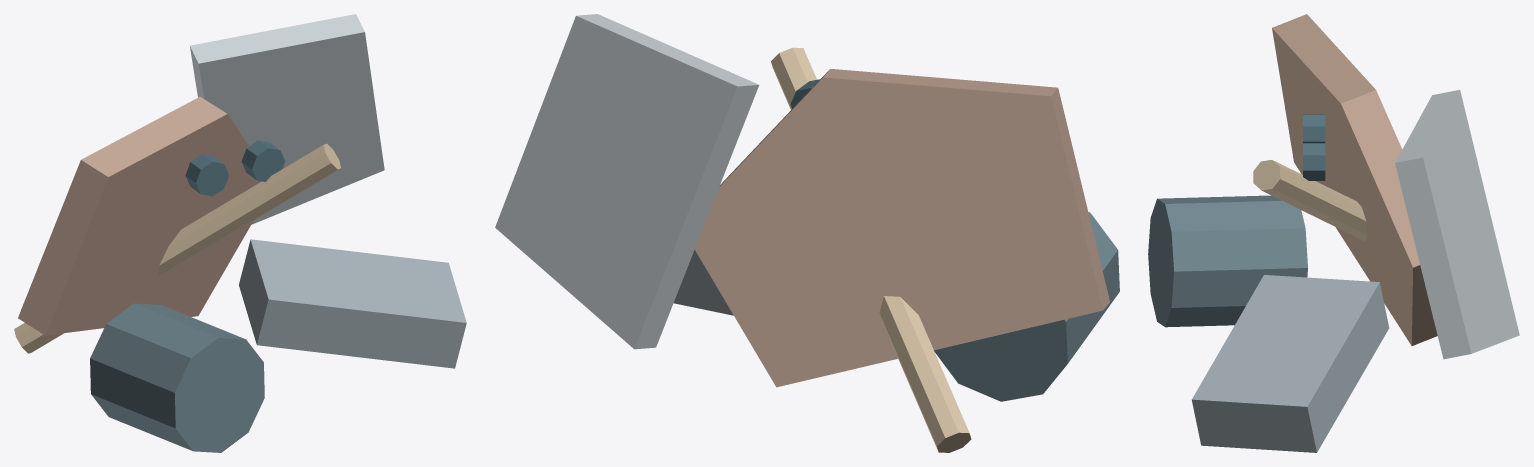
File: scrap_low.gltf
The picture shows the model from 3 angles, left to right: view 1: azimuth 30°, elevation 25°; view 2: azimuth 150°, elevation 25°; view 3: azimuth 270°, elevation 25°; orthographic projection. The views are drawn at different scales.
Visible parts, largest first — view 1: scrap_low; view 2: scrap_low; view 3: scrap_low.
Part boxes in pixels (x1,y1,x2,y2): scrap_low: (14, 14, 466, 452); scrap_low: (495, 14, 1119, 452); scrap_low: (1148, 14, 1519, 452).
Size of the model in its own units: 1.74 by 1.14 by 1.25.
